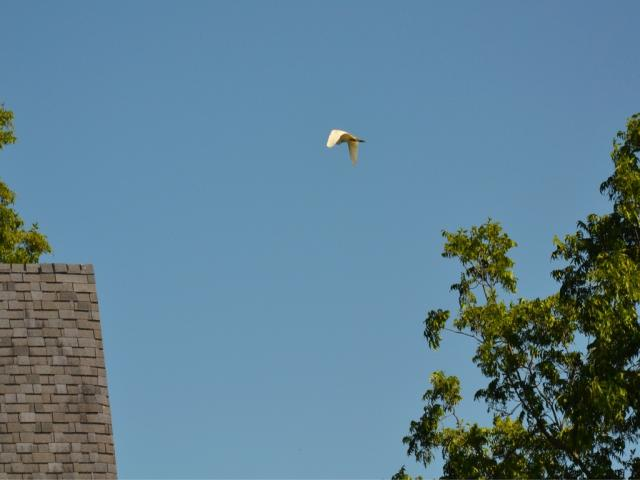Bird: (327, 128, 364, 167)
